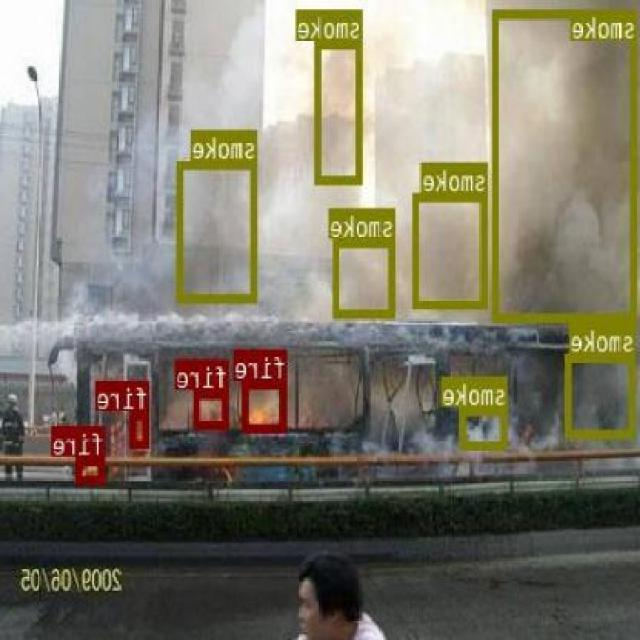Fire: (244, 380, 288, 431), (196, 388, 230, 427), (77, 454, 106, 482), (132, 411, 150, 446)
Smoke: (494, 8, 637, 320), (378, 25, 472, 151), (178, 158, 258, 302), (414, 191, 488, 307), (317, 38, 363, 184), (567, 352, 636, 436), (334, 238, 397, 316), (279, 203, 319, 295), (462, 406, 509, 448)
